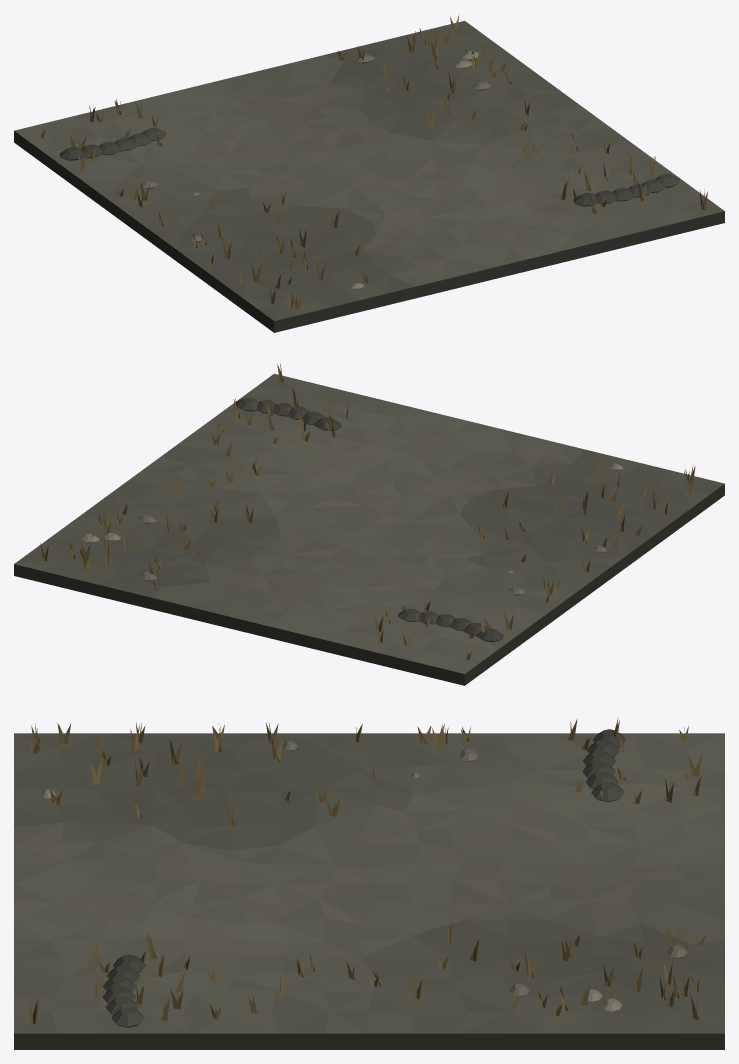
Rendered from CHUNK_ash_grassland__fallow_ridges.glb.
3 views of the same model, one above another, from view 1: azimuth 30°, elevation 25°; view 2: azimuth 150°, elevation 25°; view 3: azimuth 270°, elevation 25° (orthographic). The views are drawn at different scales.
Parts seen in each view (by area): view 1: CHUNK_ash_grassland__fallow_ridges; view 2: CHUNK_ash_grassland__fallow_ridges; view 3: CHUNK_ash_grassland__fallow_ridges.
Boxes of the visible parts, box(x1,y1,x2,y2) form: CHUNK_ash_grassland__fallow_ridges: box(14, 15, 724, 332); CHUNK_ash_grassland__fallow_ridges: box(14, 363, 724, 685); CHUNK_ash_grassland__fallow_ridges: box(14, 717, 724, 1049).
Size of the model in its own units: 8 by 0.552 by 8.
